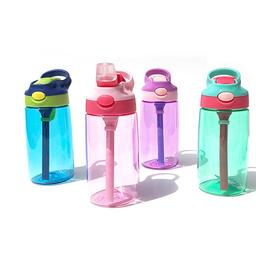plastic: (76, 52, 142, 206), (188, 57, 253, 208), (16, 56, 86, 189), (131, 56, 189, 160)
